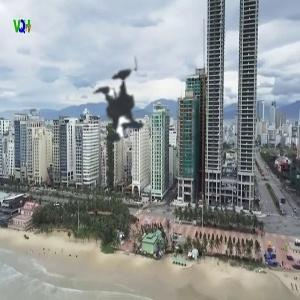drone: (49, 35, 196, 182)
